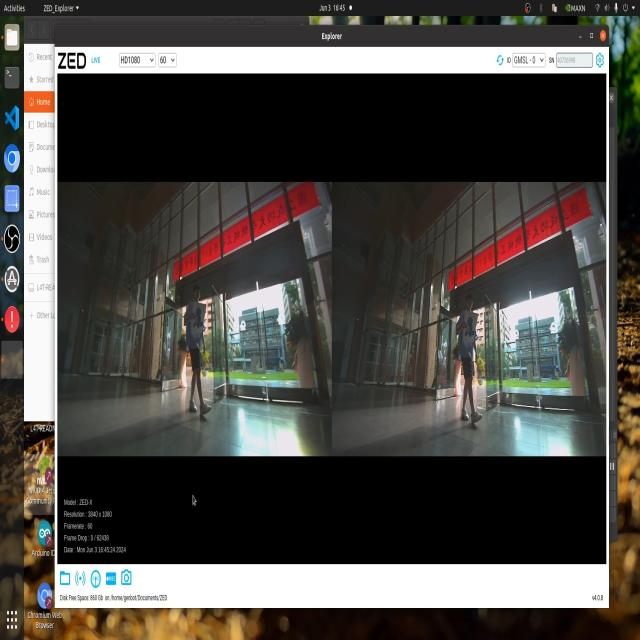blue: (191, 304, 208, 336), (462, 313, 479, 341)
